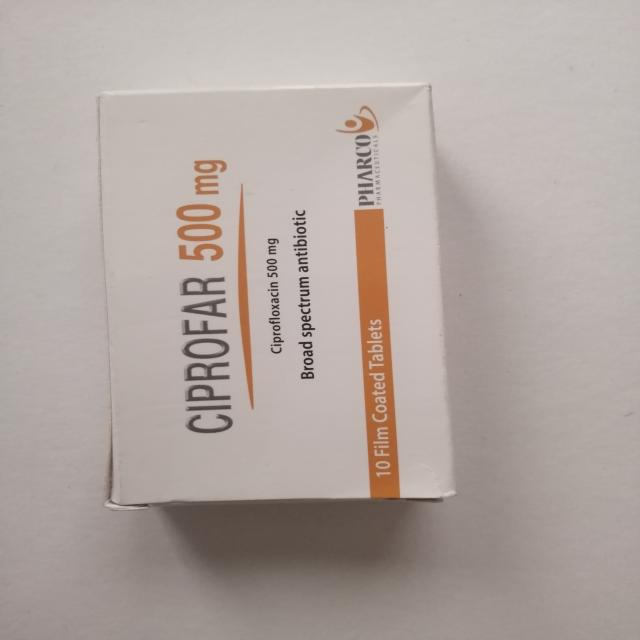Medicine: (93, 78, 460, 500)
